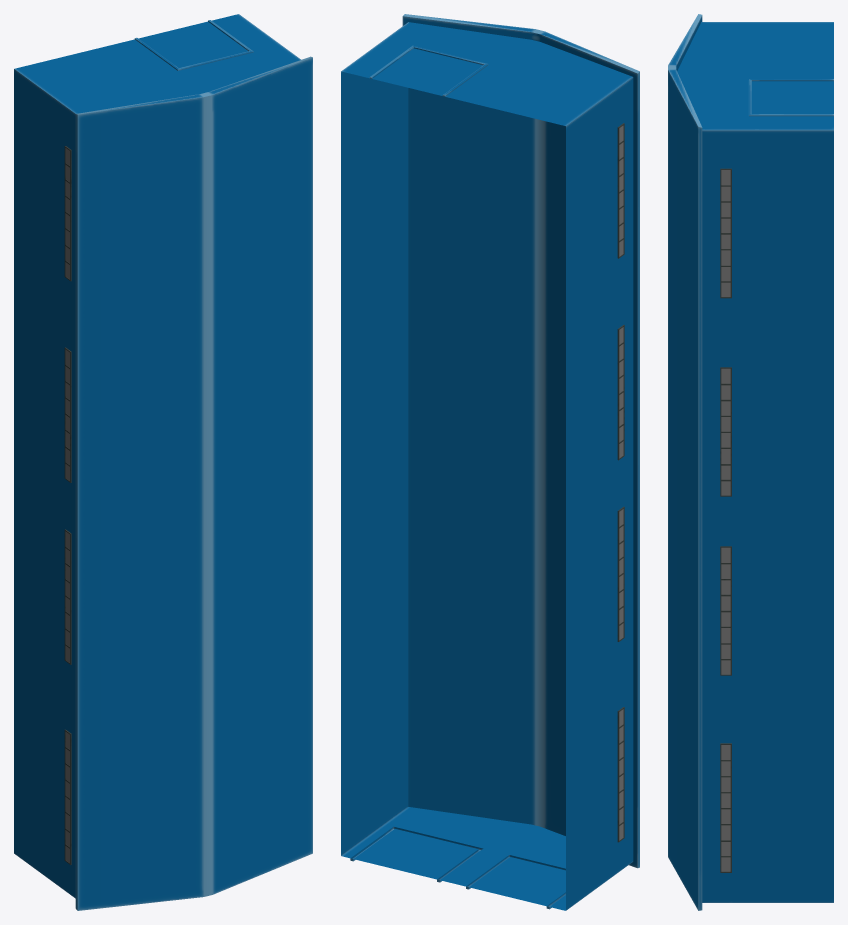
Rendered from Building_07.fbx.
3 renders of one model, left to right at view 1: azimuth 30°, elevation 25°; view 2: azimuth 150°, elevation 25°; view 3: azimuth 270°, elevation 25°, orthographic.
Parts seen in each view (by area): view 1: Building_07; view 2: Building_07; view 3: Building_07.
Boxes of the visible parts, x1,y1,x2,y2 form: Building_07: (14,14,312,910); Building_07: (341,14,639,910); Building_07: (668,14,833,910).
Bounding box in the file's own units: 1128 × 3667 × 700.
